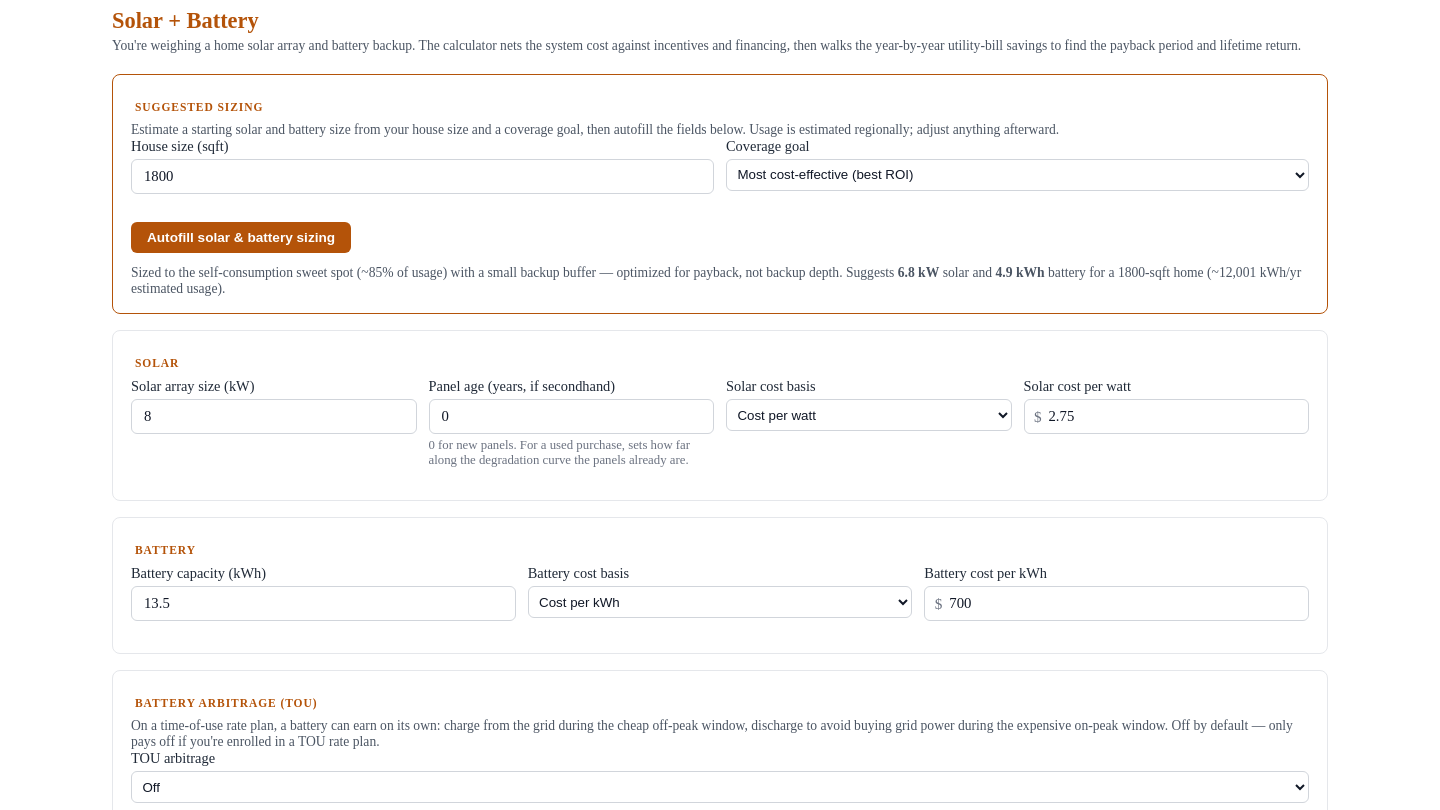
Test: <SolarBatteryComponent /> › toggles solar cost input between per-watt and total system cost
Expected: the number field labelled "Solar cost per watt" is shown, x1=1024 y1=399 x2=1309 y2=434
Expected: the field labelled "Total solar cost" is not shown
Select "Total system cost" in the dropdown labelled "Solar cost basis" at (869, 415), box x1=726 y1=399 x2=1012 y2=431
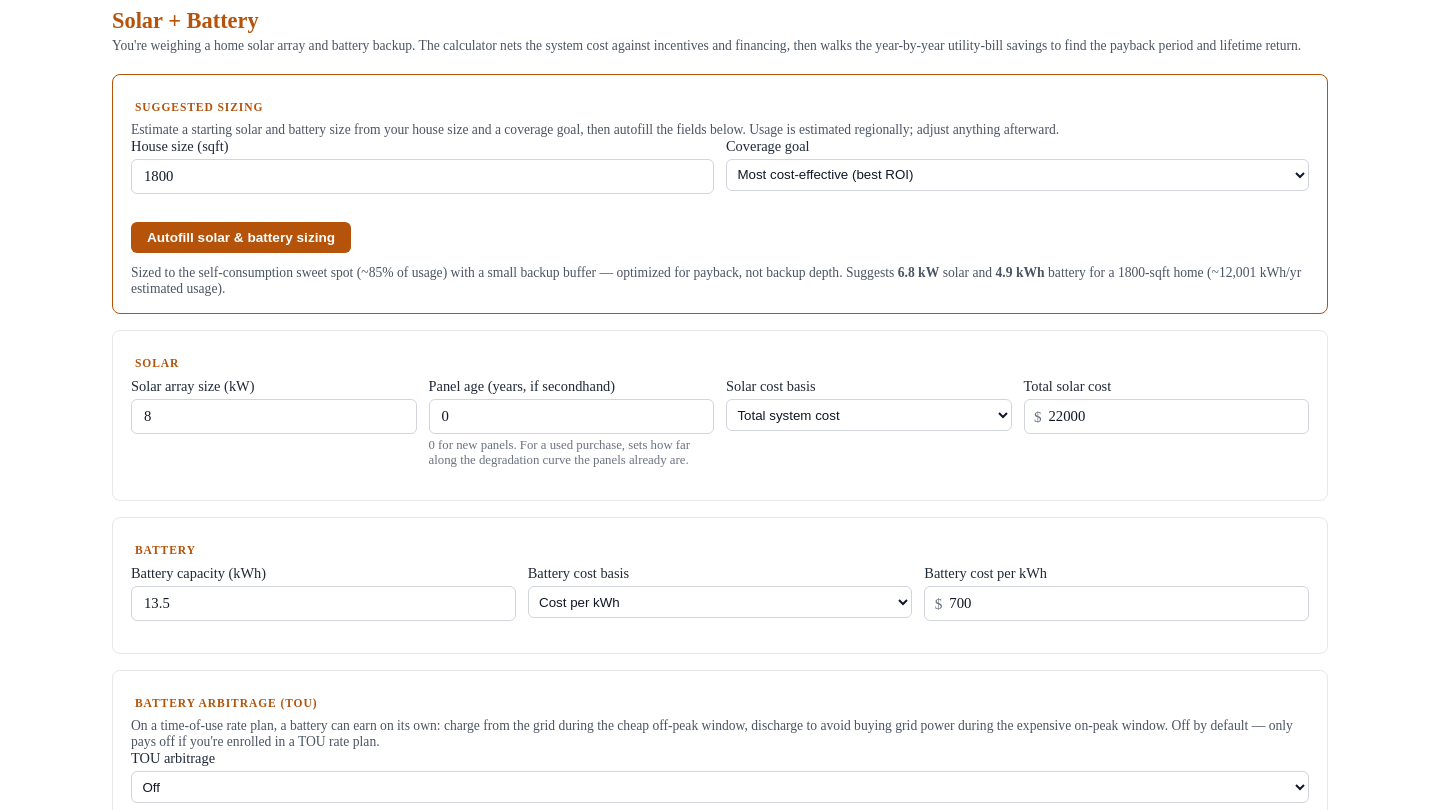
Expected: the number field labelled "Total solar cost" is shown, x1=1024 y1=399 x2=1309 y2=434
Result: the label labelled "Solar cost per watt" is gone
